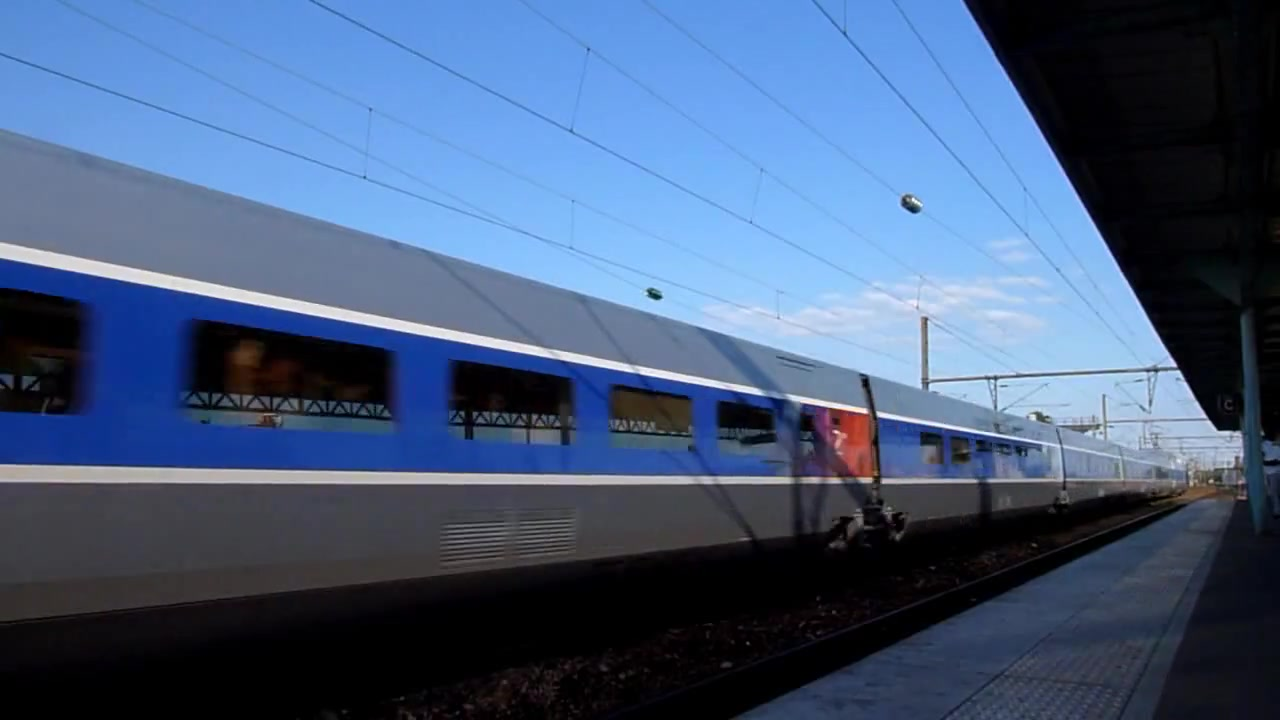train: (2, 118, 1191, 627)
